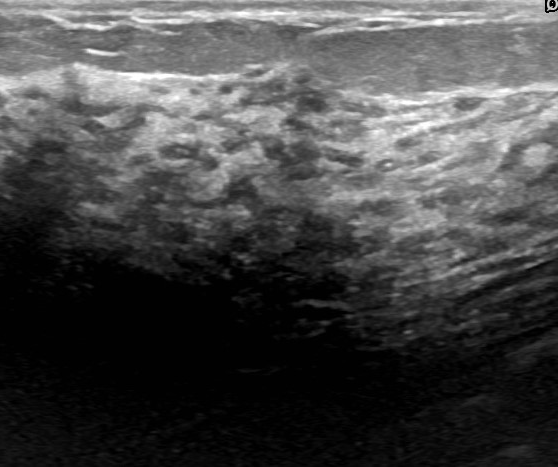Normal: (2, 16, 537, 437)
